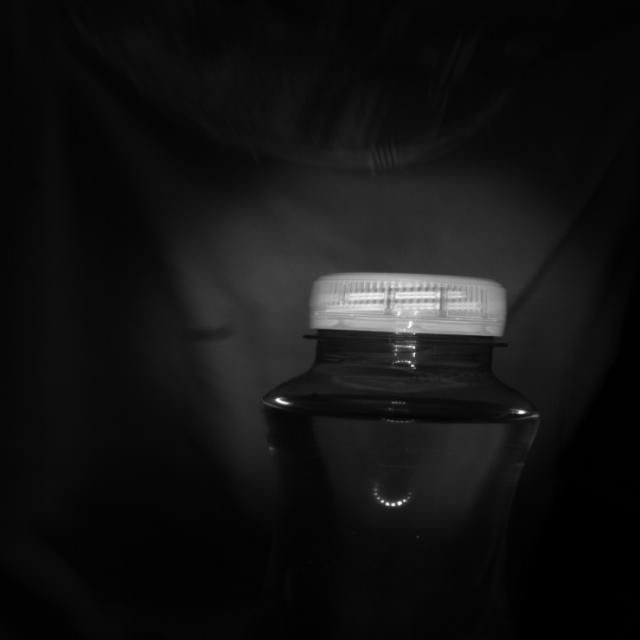Good: (308, 272, 505, 337)
